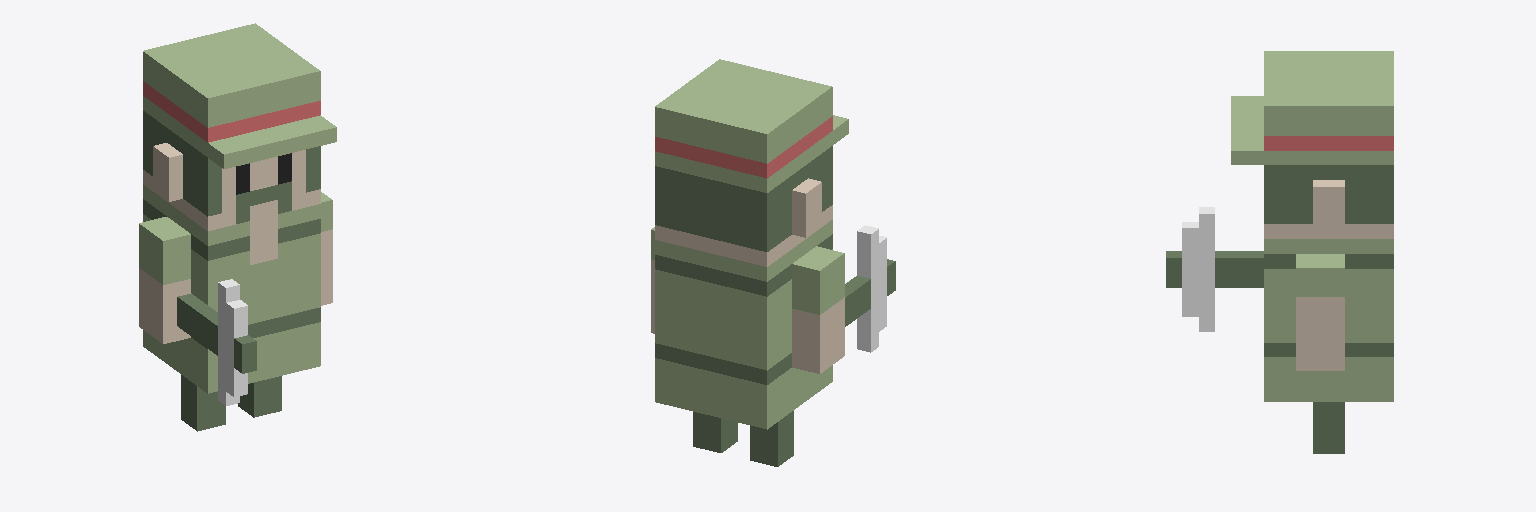
3 renders of one model, left to right at view 1: azimuth 30°, elevation 25°; view 2: azimuth 150°, elevation 25°; view 3: azimuth 270°, elevation 25°, orthographic.
Visible parts, largest first — view 1: object 1; view 2: object 1; view 3: object 1.
Boxes of the visible parts, <box> form: object 1: <box>139,23,336,431</box>; object 1: <box>651,59,895,466</box>; object 1: <box>1166,51,1393,453</box>.
Bounding box in the file's own units: 1.2 × 2.4 × 1.4.
Materials: 1 (1 with a texture image).